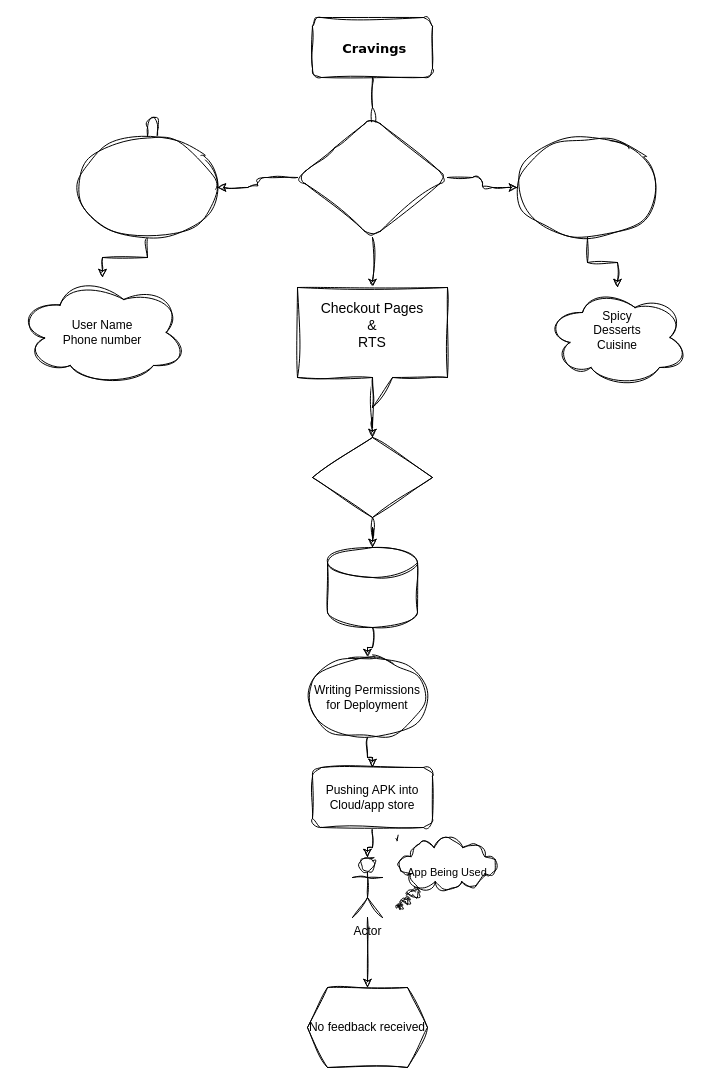
The diagram is 705 pixels wide and 1085 high, and some of its shapes have lost their labels. The centre of each missing label's shape, as x and y in pixels:
Compiling into APK: [372,477]
Create a User Profile: [147,187]
Design UI /UX: [372,177]
Knowing the Preferences: [587,187]
No bugs Found: [372,587]
